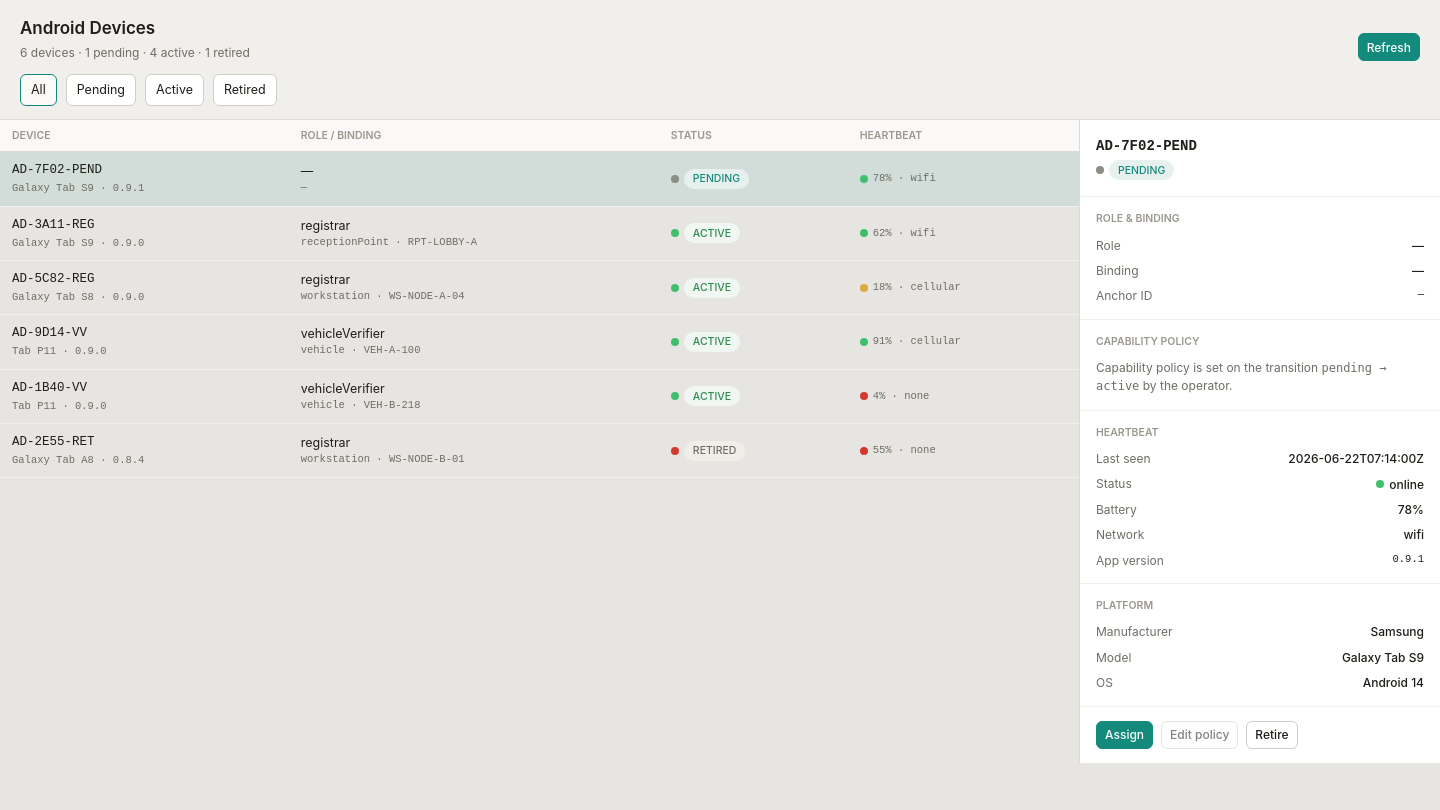
Test: AndroidDevicesScreen › retired device disables retire affordance with a 'already retired' tooltip
Expected: the button "AD-7F02-PEND Galaxy Tab S9 · 0.9.1" is shown, [12,161,277,197]
Click the button "AD-2E55-RET Galaxy Tab A8 · 0.8.4": (53,442) [12,433,277,468]
(page scrolled)
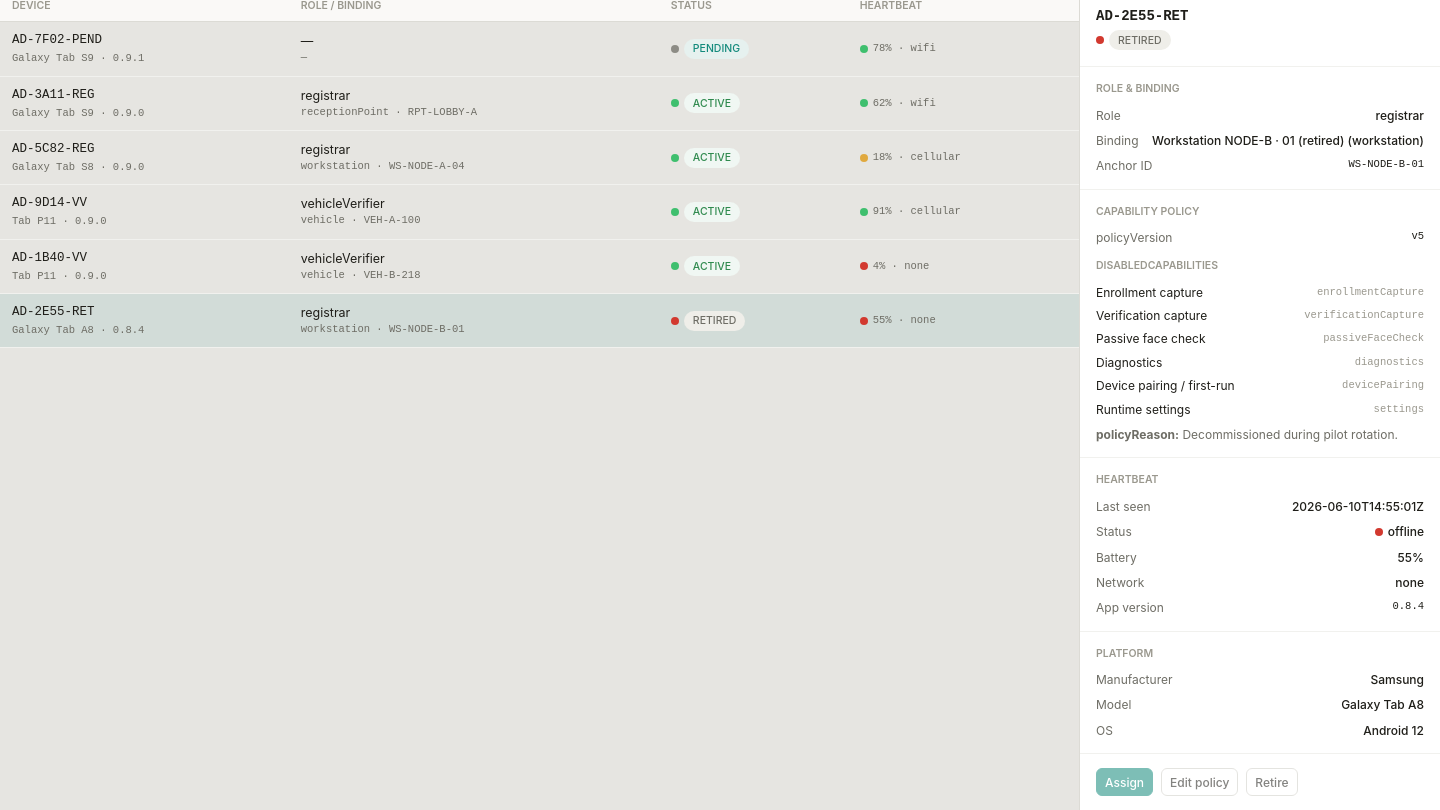
Now the button "Retire" is disabled, box [1246,768,1298,796]
